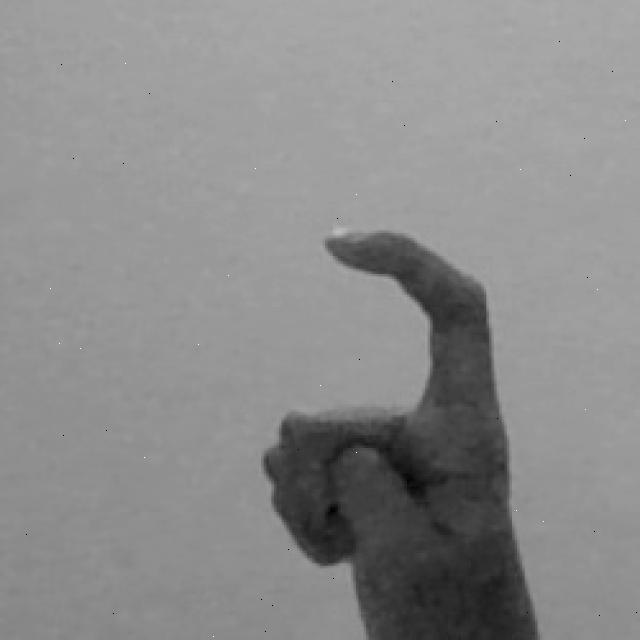X: (257, 211, 543, 640)
